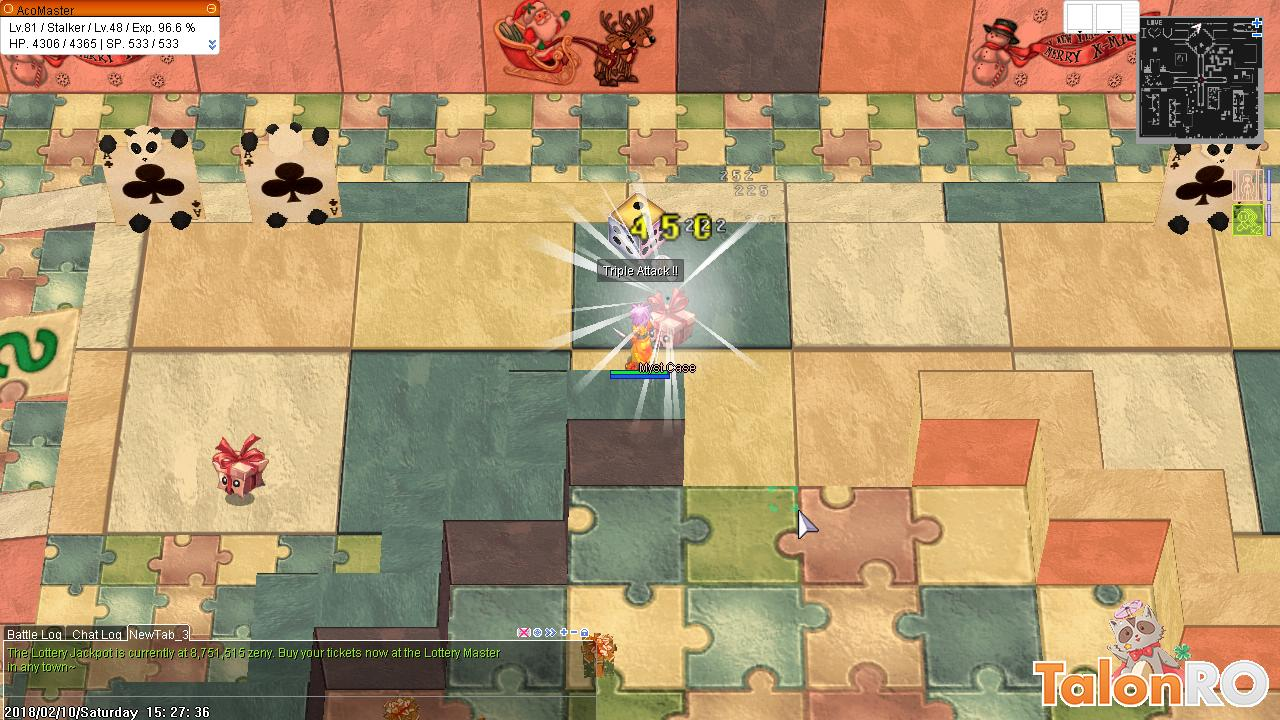myst_case: (207, 433, 274, 504), (643, 288, 698, 358)
